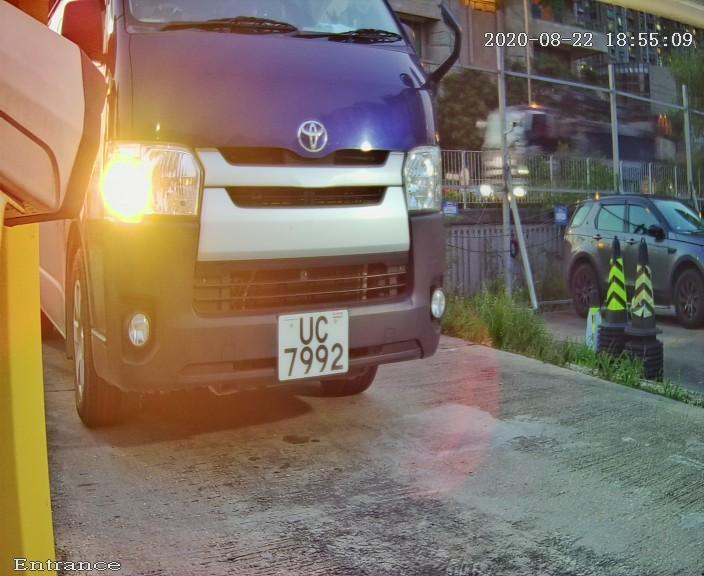License Plate: (254, 292, 365, 398)
